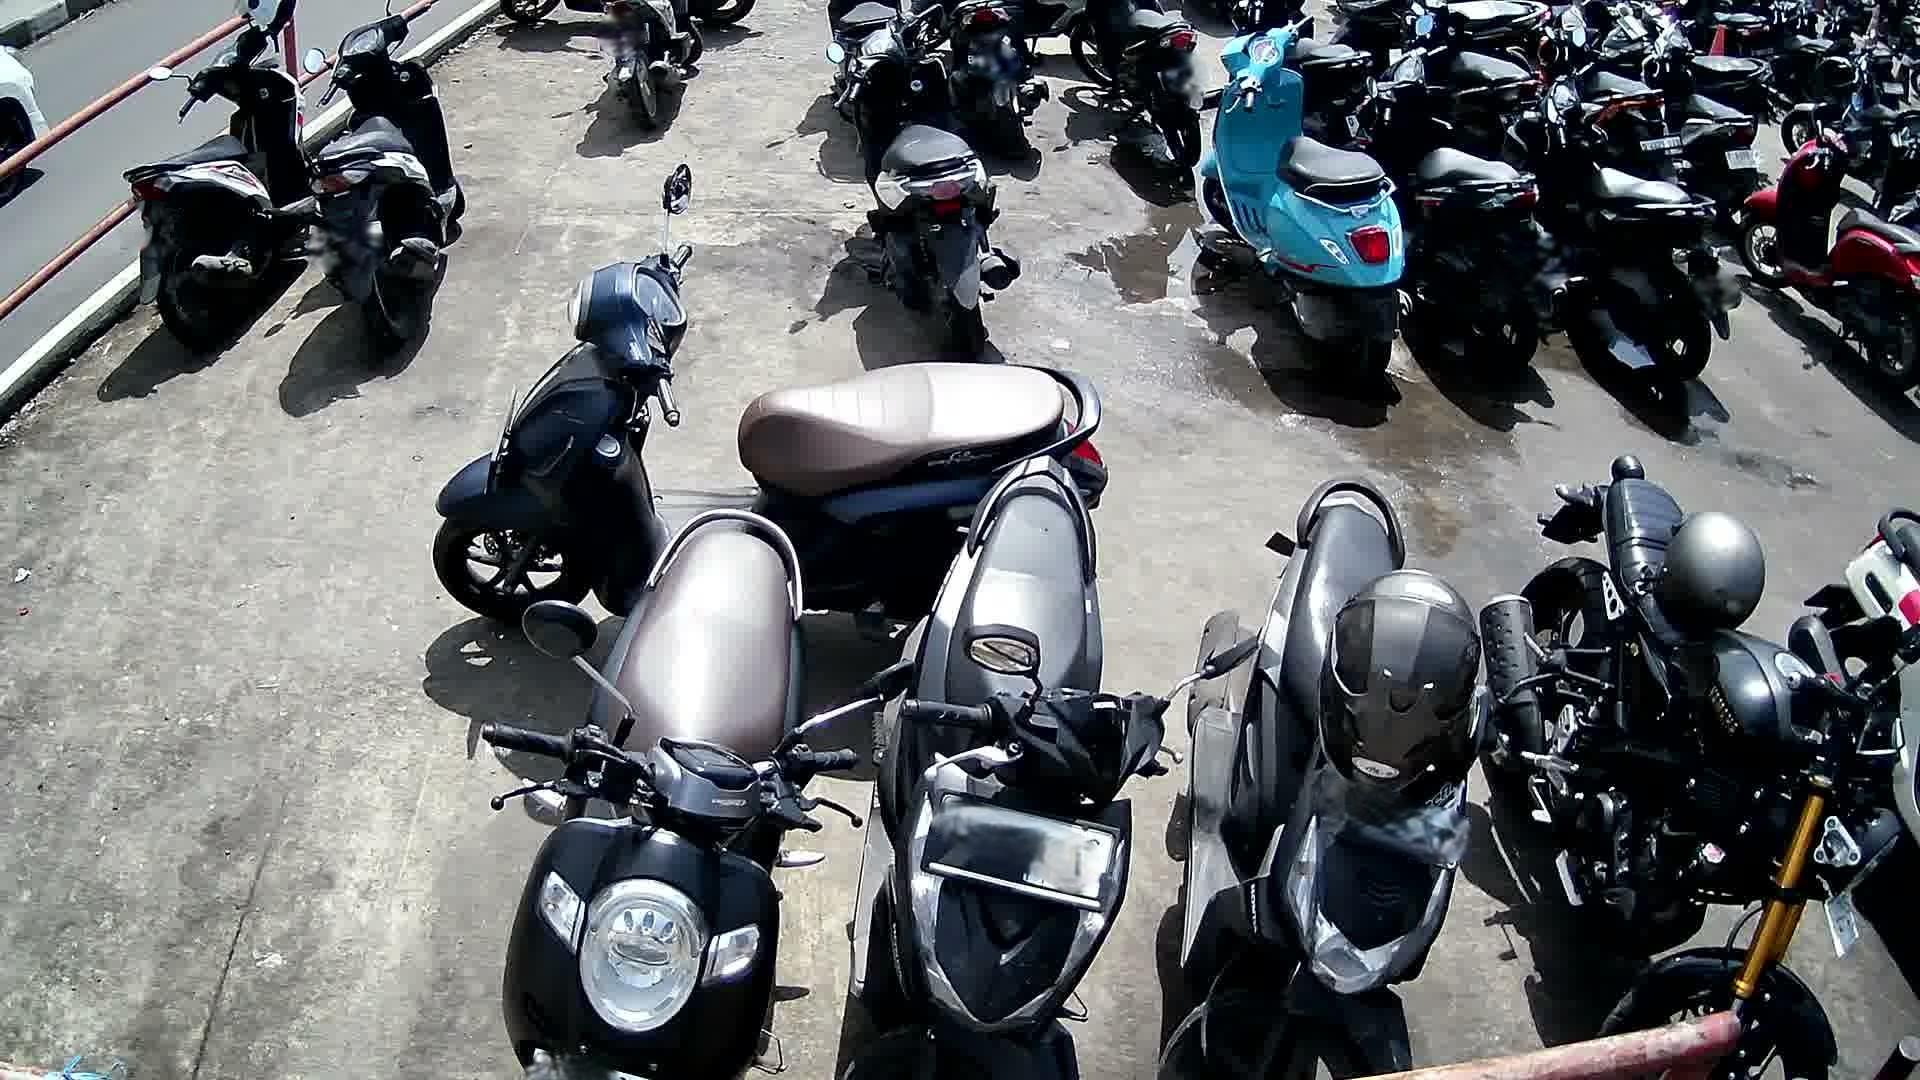motorcycle: (431, 164, 1108, 627), (1480, 454, 1920, 1080), (849, 457, 1253, 1080), (483, 508, 915, 1080), (1165, 479, 1564, 1080), (1336, 17, 1583, 383), (1499, 27, 1743, 387), (1200, 14, 1413, 388), (828, 3, 1022, 359), (120, 17, 317, 352), (302, 8, 464, 349), (1742, 93, 1920, 395), (1790, 509, 1920, 868)
